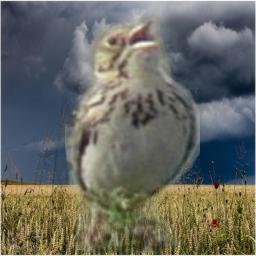Sparrow: (65, 17, 200, 253)
